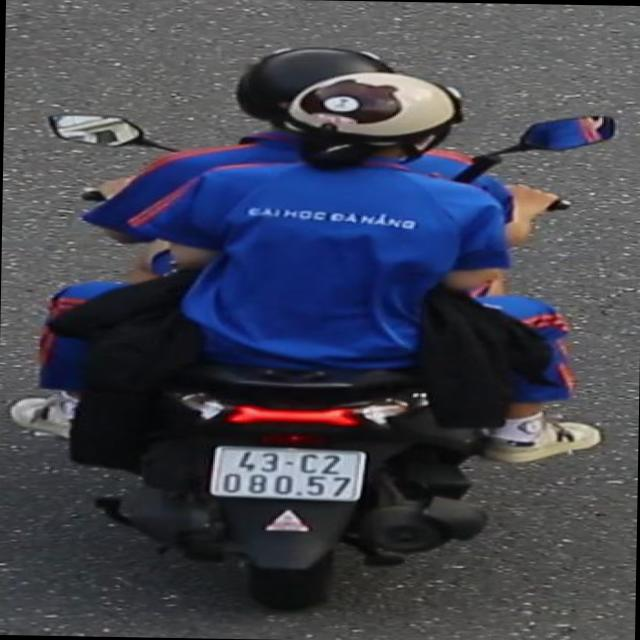LP: (204, 441, 373, 506)
helmet: (282, 68, 466, 179)
